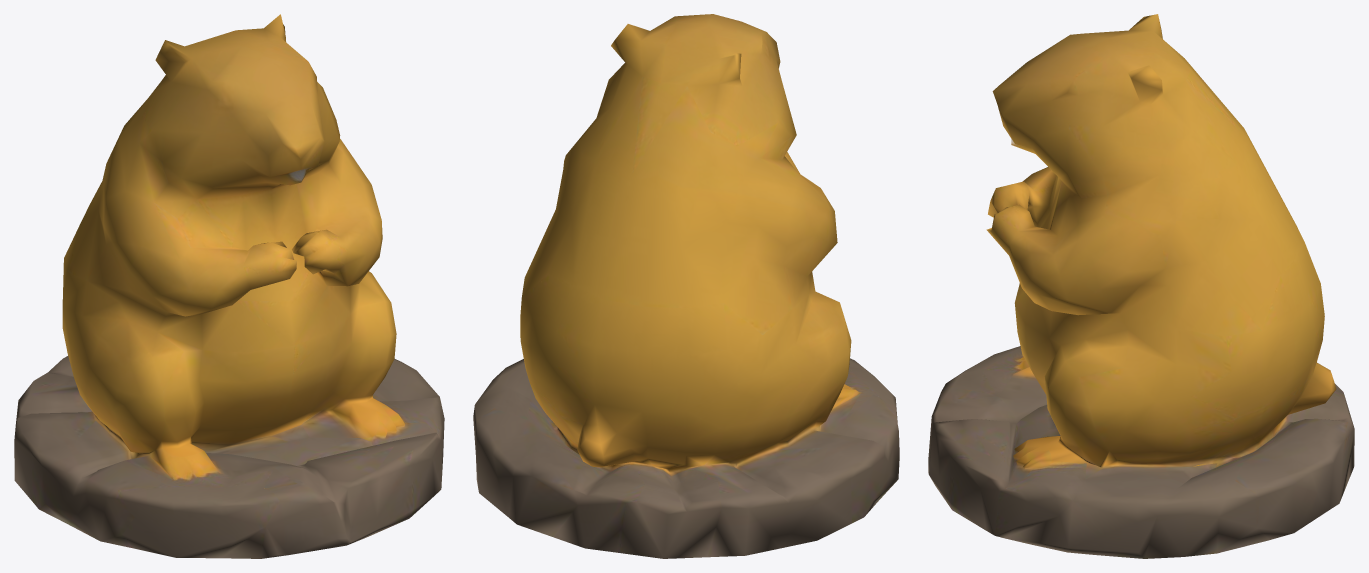
File: statue.glb
The picture shows the model from 3 angles, left to right: view 1: azimuth 30°, elevation 25°; view 2: azimuth 150°, elevation 25°; view 3: azimuth 270°, elevation 25°; orthographic projection.
Parts seen in each view (by area): view 1: tripo_node_77e58c18-6cc4-46ed-ba6c-1e36727ee3d3; view 2: tripo_node_77e58c18-6cc4-46ed-ba6c-1e36727ee3d3; view 3: tripo_node_77e58c18-6cc4-46ed-ba6c-1e36727ee3d3.
Boxes of the visible parts, x1,y1,x2,y2 form: tripo_node_77e58c18-6cc4-46ed-ba6c-1e36727ee3d3: (14, 14, 444, 558); tripo_node_77e58c18-6cc4-46ed-ba6c-1e36727ee3d3: (473, 14, 899, 558); tripo_node_77e58c18-6cc4-46ed-ba6c-1e36727ee3d3: (928, 14, 1354, 558).
Size of the model in its own units: 0.8059 by 0.9 by 0.8069.
Materials: 1 (1 with a texture image).
